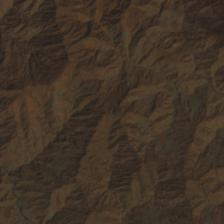landslides: (135, 120, 152, 136)
